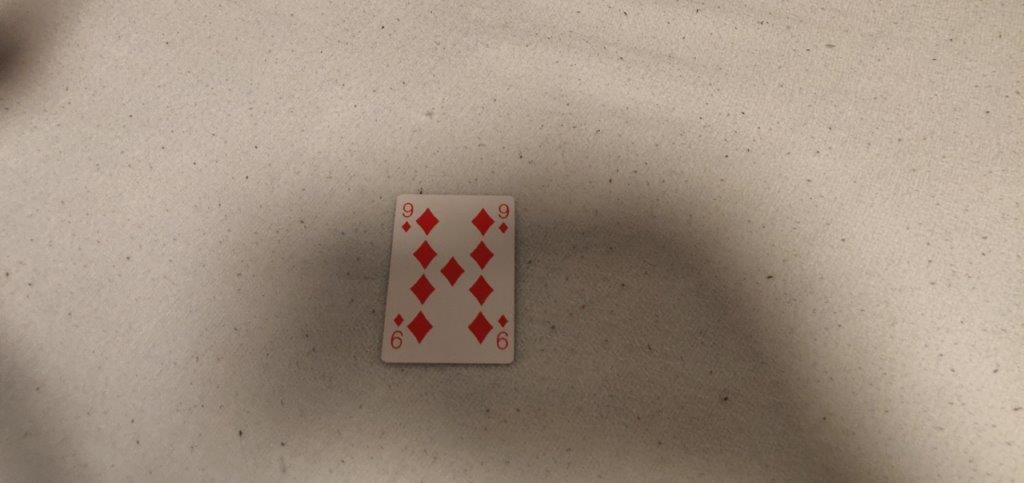9D: (397, 201, 418, 236), (494, 202, 514, 237)
